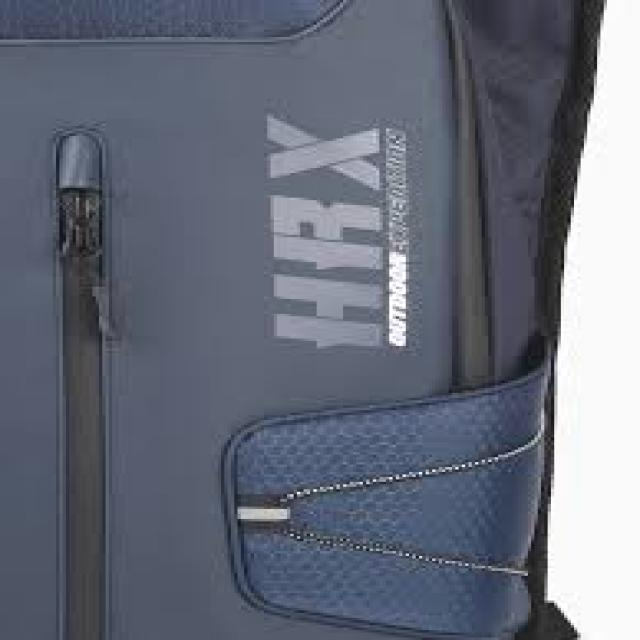backpack: (1, 1, 611, 638)
